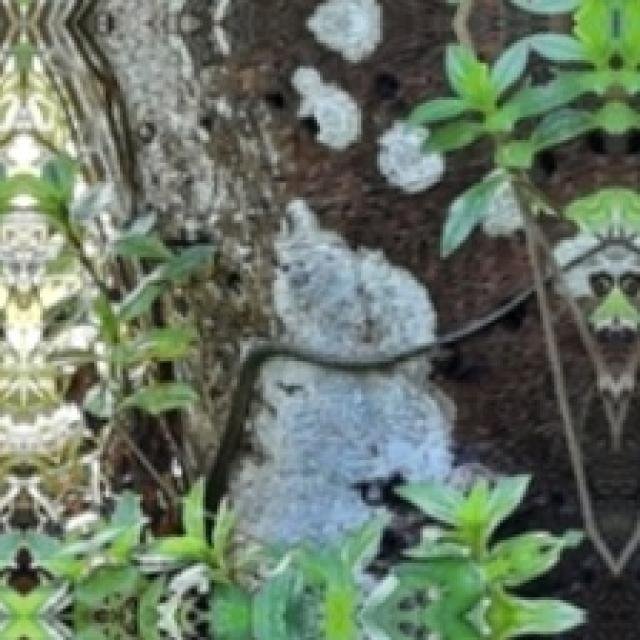paradise tree snake: (206, 287, 534, 509)
